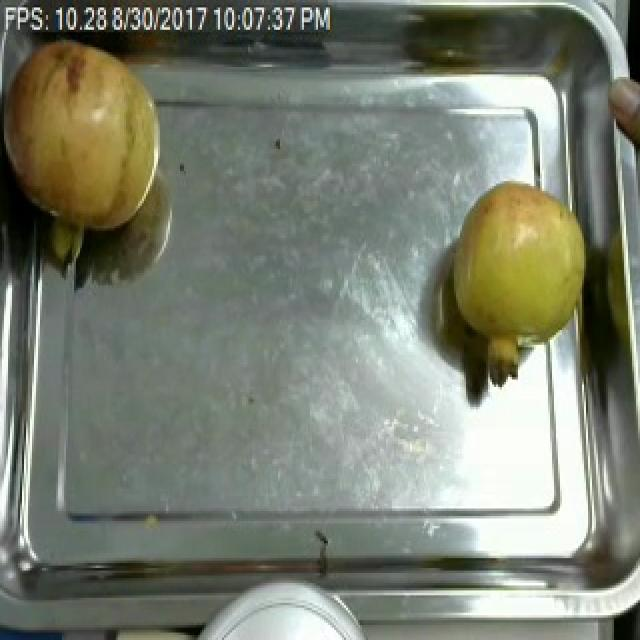fruit: (0, 20, 176, 260), (444, 166, 592, 382), (610, 60, 640, 164)
